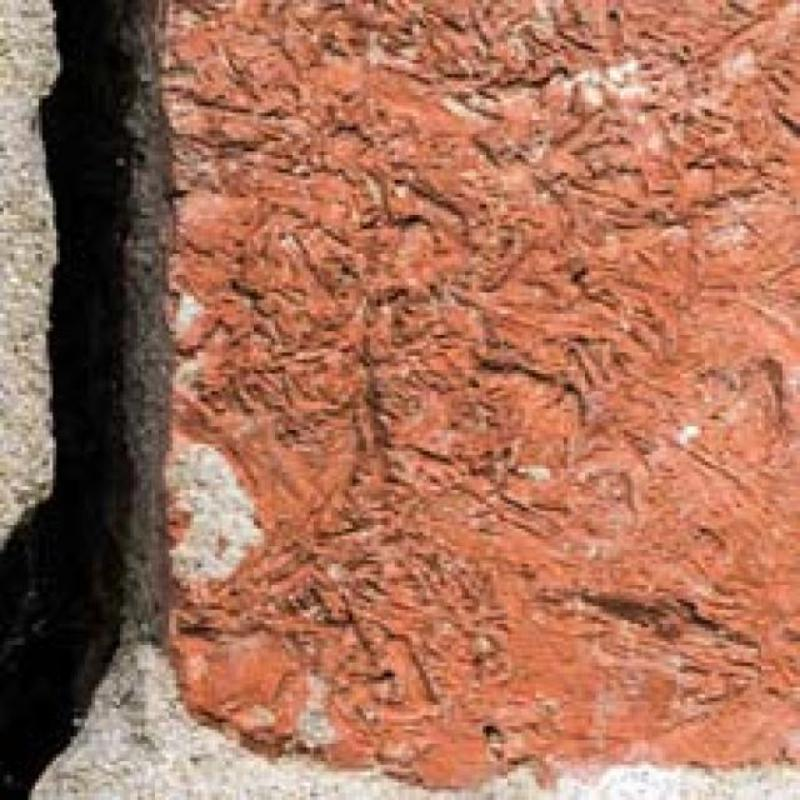crack: (0, 0, 136, 799)
